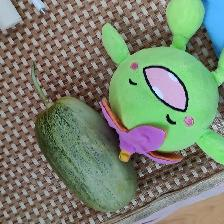gua: (48, 103, 113, 201)
